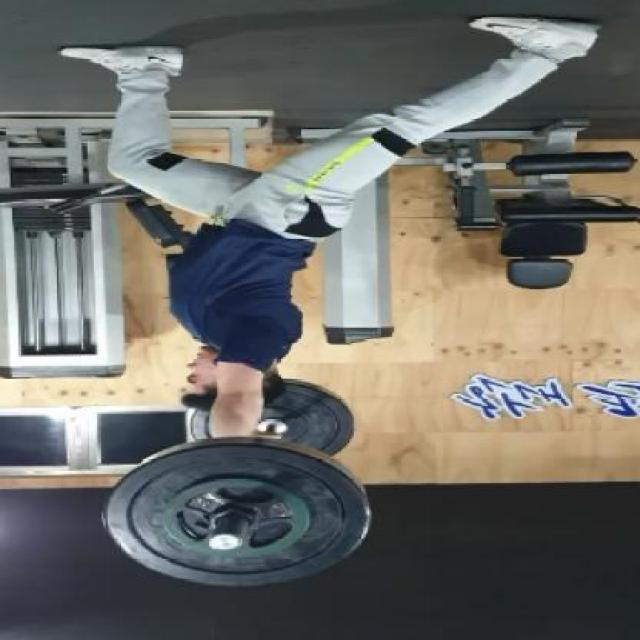Barbell: (204, 531, 248, 554)
